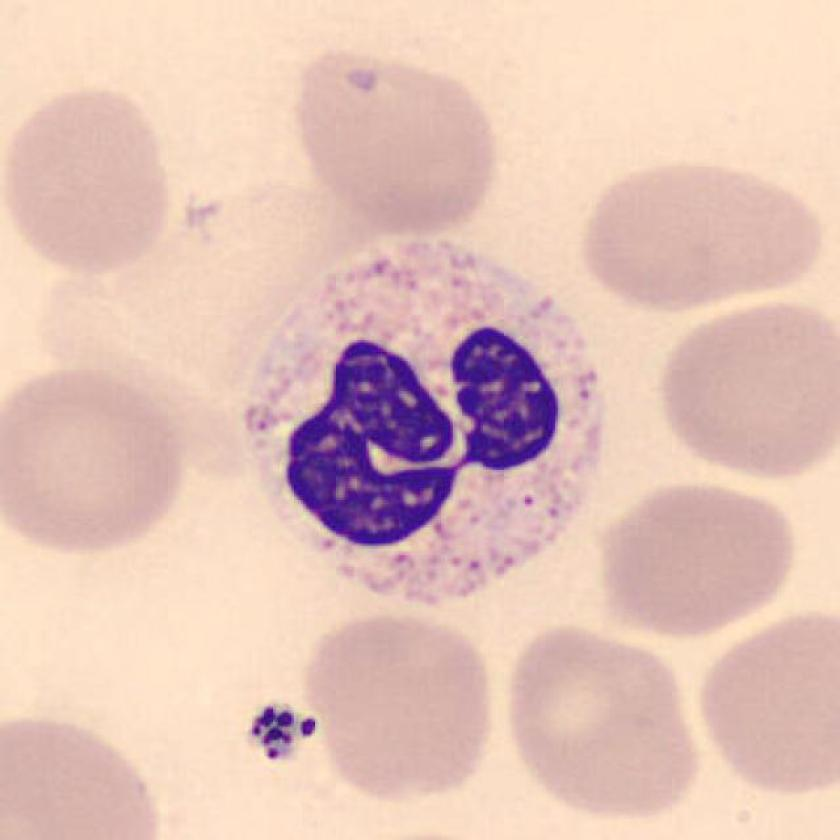neutrophil: (248, 241, 602, 606)
